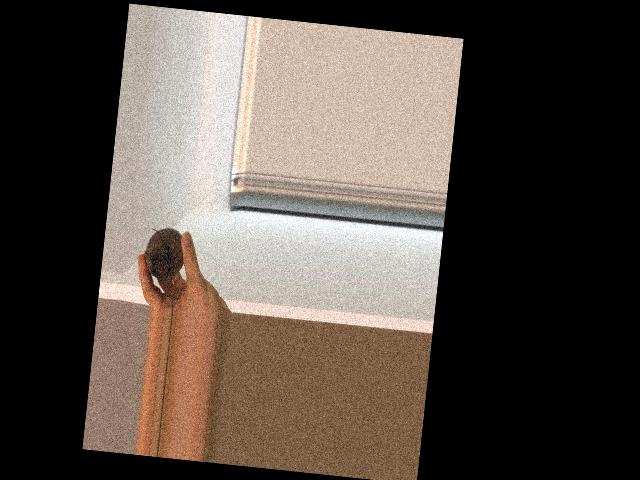beet: (138, 225, 188, 310)
